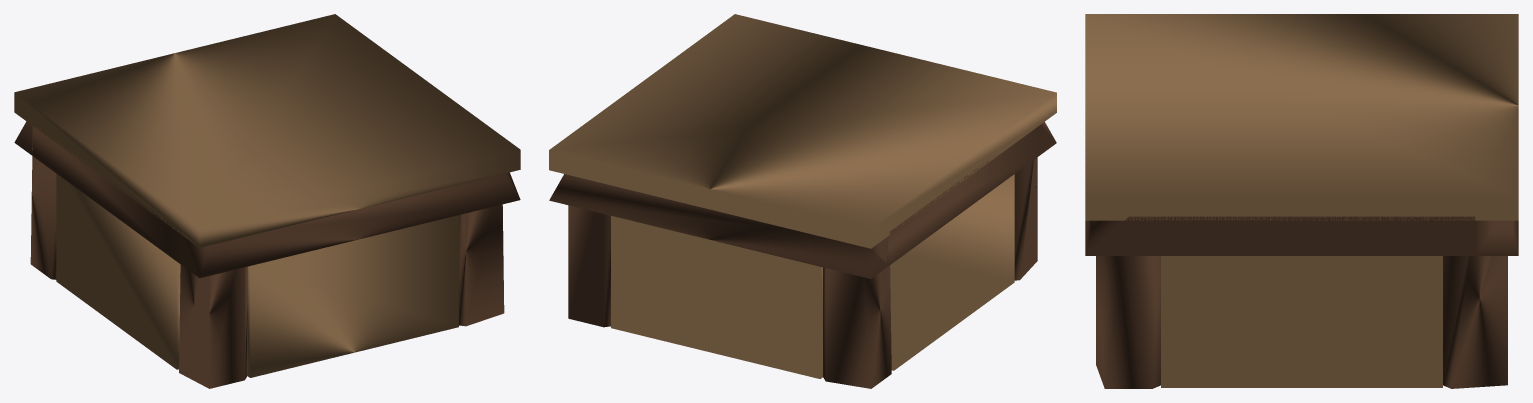
The model's file is foundation_timber_lod1.glb.
3 renders of one model, left to right at view 1: azimuth 30°, elevation 25°; view 2: azimuth 150°, elevation 25°; view 3: azimuth 270°, elevation 25°, orthographic. The views are drawn at different scales.
Bounding box in the file's own units: 2 × 1 × 2.
